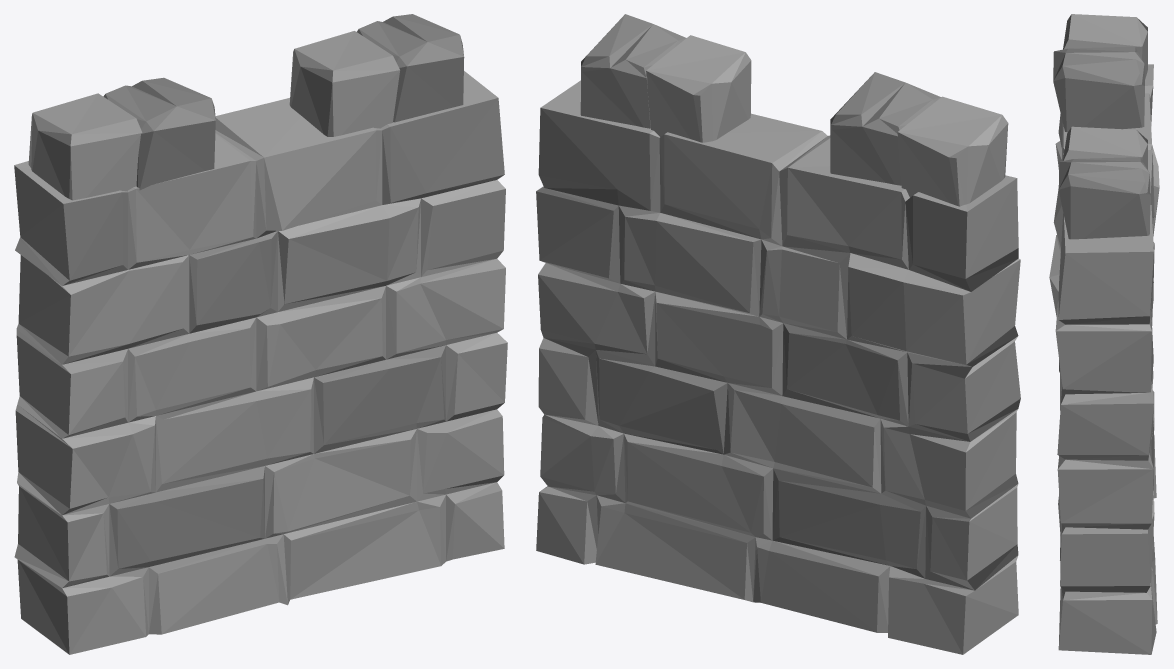
Rendered from _WALL_1_PART1_01.fbx.
3 renders of one model, left to right at view 1: azimuth 30°, elevation 25°; view 2: azimuth 150°, elevation 25°; view 3: azimuth 270°, elevation 25°, orthographic. The views are drawn at different scales.
Visible parts, largest first — view 1: WALL_1_PART1_01; view 2: WALL_1_PART1_01; view 3: WALL_1_PART1_01.
Boxes of the visible parts, <box> form: WALL_1_PART1_01: <box>14,14,507,654</box>; WALL_1_PART1_01: <box>536,14,1020,654</box>; WALL_1_PART1_01: <box>1049,14,1159,654</box>.
Bounding box in the file's own units: 422 × 476 × 103.
